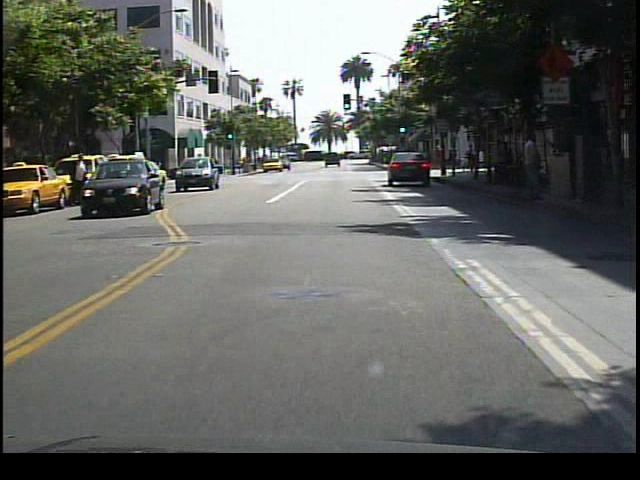person: (518, 129, 546, 205), (72, 149, 93, 207)
